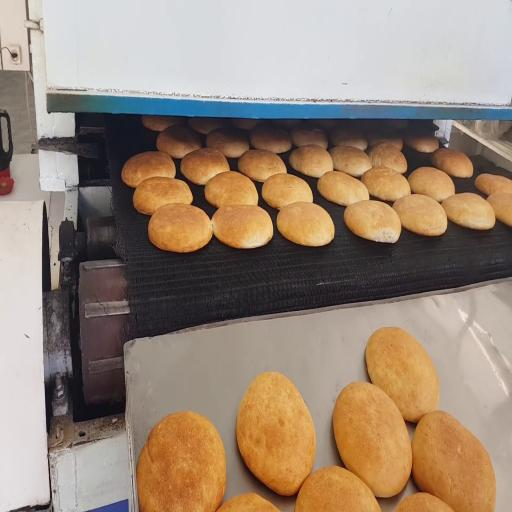bread: (237, 372, 315, 495), (136, 412, 226, 511), (334, 383, 412, 497), (412, 411, 496, 511), (366, 328, 439, 422), (295, 466, 381, 511), (148, 203, 212, 252), (212, 205, 273, 248), (277, 202, 334, 246), (344, 201, 401, 243), (133, 177, 193, 215), (393, 194, 447, 236), (442, 193, 495, 230), (122, 152, 175, 188), (205, 172, 258, 207), (180, 148, 229, 185), (262, 174, 313, 209), (318, 171, 369, 205), (408, 167, 455, 202), (362, 167, 410, 201), (238, 150, 286, 182), (157, 125, 201, 158), (289, 145, 333, 177), (329, 146, 371, 177), (206, 128, 249, 158), (432, 148, 473, 178), (250, 123, 291, 153), (368, 143, 407, 173), (218, 493, 279, 511), (397, 493, 453, 511), (291, 125, 327, 149), (330, 127, 367, 150), (487, 192, 511, 226), (475, 174, 511, 195), (367, 131, 403, 151), (404, 134, 438, 153), (142, 115, 182, 131), (188, 118, 226, 134), (232, 119, 262, 130), (313, 119, 339, 130), (273, 119, 300, 128), (387, 119, 409, 129)
